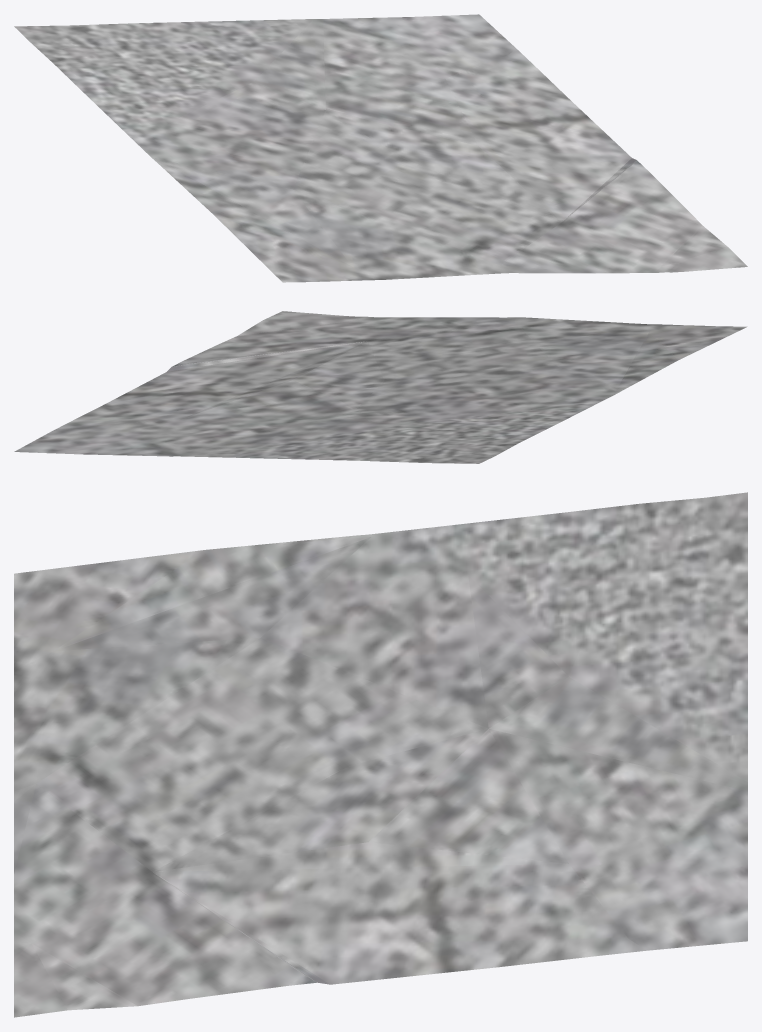
3 views of the same model, one above another, from view 1: azimuth 30°, elevation 25°; view 2: azimuth 150°, elevation 25°; view 3: azimuth 270°, elevation 25° (orthographic). The views are drawn at different scales.
Size of the model in its own units: 0.8373 by 0.2707 by 0.8374.
Materials: 3 (3 with a texture image).
